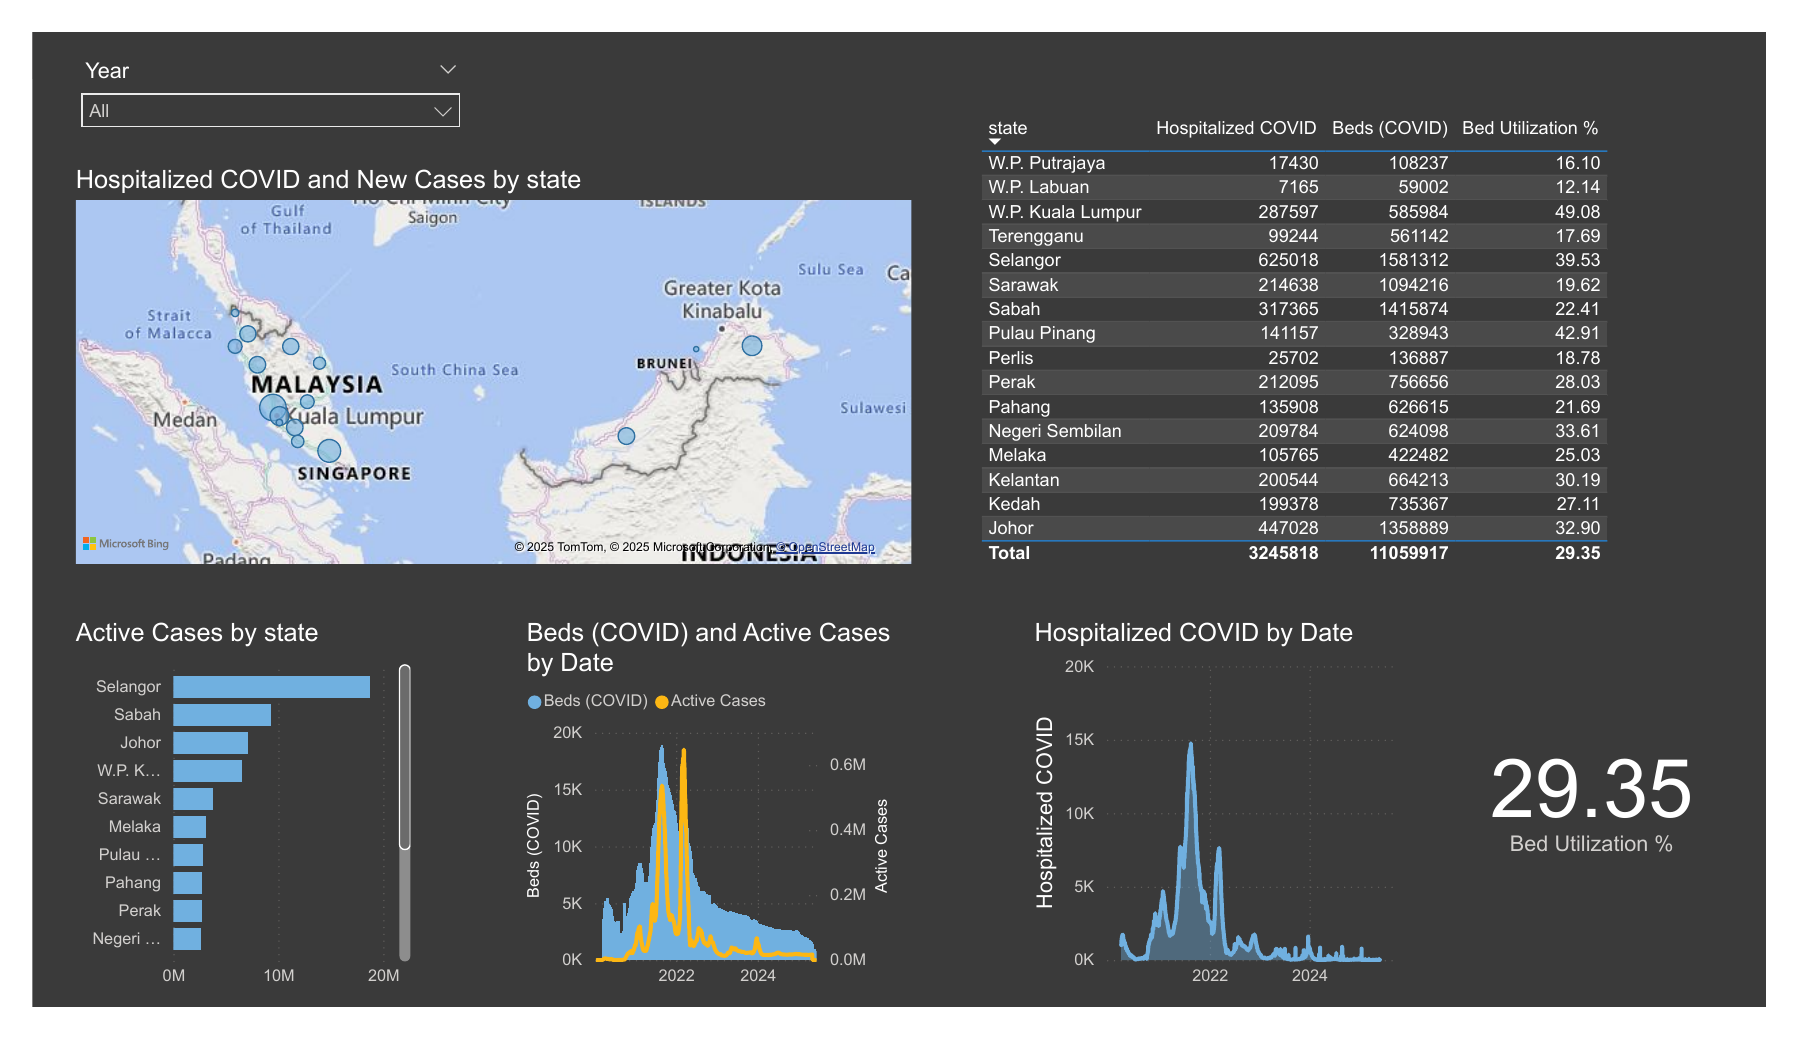

The page's visual inventory and layout, read from the dashboard file:
{"tool":"powerbi","page":{"name":"Page 2","canvas":[1280,720],"ordinal":1},"visuals":[{"type":"clusteredBarChart","fields":{"Category":["State.state"],"Y":["Date.Active Cases"]},"box":[26.6,432.7,257.1,280.2],"z":0},{"type":"tableEx","fields":{"Values":["State.state","Date.Hospitalized COVID","Date.Beds (COVID)","Date.Bed Utilization %"]},"box":[695.4,57.4,488.3,346.3],"z":1000},{"type":"map","fields":{"Category":["State.state"],"Size":["Date.Hospitalized COVID"]},"box":[26.6,98.4,627.8,298.8],"z":2000},{"type":"lineClusteredColumnComboChart","fields":{"Category":["Date.Date"],"Y":["Date.Beds (COVID)"],"Y2":["Date.Active Cases"]},"box":[360,432.7,280.2,280.2],"z":3000},{"type":"stackedAreaChart","fields":{"Category":["Date.Date"],"Y":["Date.Hospitalized COVID"]},"box":[735.1,432.7,279.3,280.2],"z":4000},{"type":"card","fields":{"Values":["Date.Bed Utilization %"]},"box":[1045.4,470.8,212.8,181.8],"z":5000},{"type":"slicer","fields":{"Values":["Date.Year"]},"box":[26.3,14.6,299.6,71],"z":6000}]}

Visuals, with their boxes in screenshot pixels (x1, y1, x2, y2), scaled from the page's 1280x720 canvas onto the 1799x1040 screenshot:
clusteredBarChart - State.state x Date.Active Cases: crop(37, 625, 399, 1030)
tableEx - State.state x Date.Hospitalized COVID: crop(977, 83, 1664, 583)
map - State.state x Date.Hospitalized COVID: crop(37, 142, 920, 574)
lineClusteredColumnComboChart - Date.Date x Date.Beds (COVID): crop(506, 625, 900, 1030)
stackedAreaChart - Date.Date x Date.Hospitalized COVID: crop(1033, 625, 1426, 1030)
card - Date.Bed Utilization %: crop(1469, 680, 1768, 943)
slicer - Date.Year: crop(37, 21, 458, 124)
